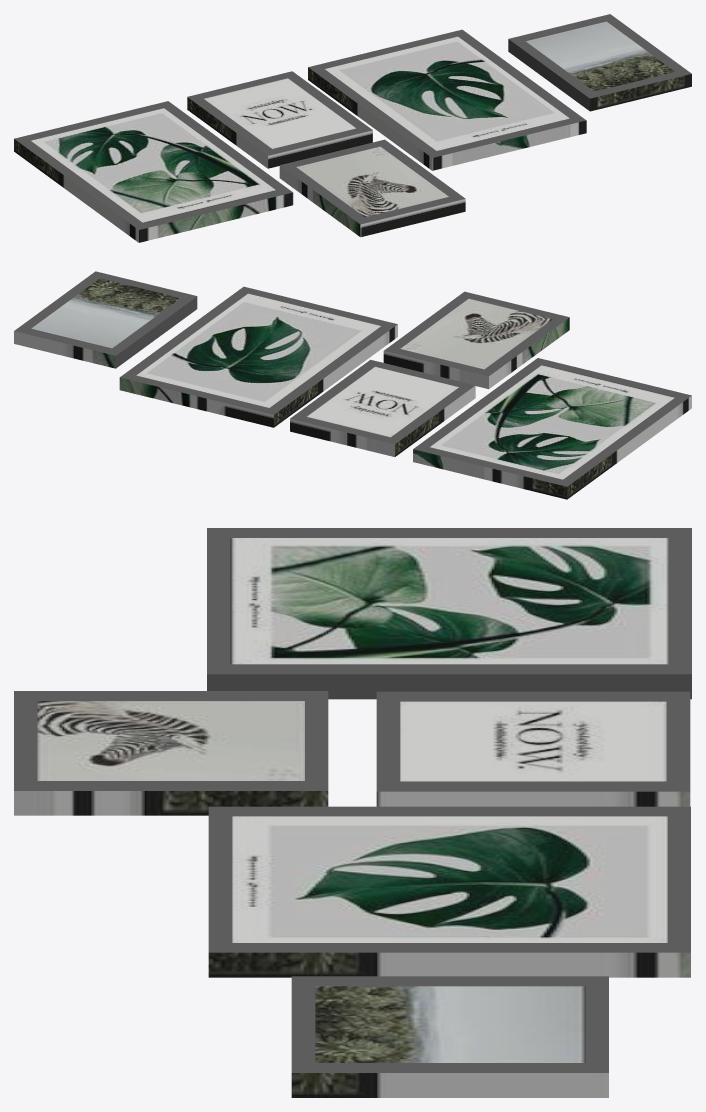
3 renders of one model, top to bottom at view 1: azimuth 30°, elevation 25°; view 2: azimuth 150°, elevation 25°; view 3: azimuth 270°, elevation 25°, orthographic. The views are drawn at different scales.
Visible parts, largest first — view 1: mesh_2_ROOT_Layer0_195_196_193_ss, mesh_0_ROOT_Layer0_30_30_30_ss; view 2: mesh_2_ROOT_Layer0_195_196_193_ss, mesh_0_ROOT_Layer0_30_30_30_ss; view 3: mesh_2_ROOT_Layer0_195_196_193_ss, mesh_0_ROOT_Layer0_30_30_30_ss.
Part boxes in pixels (box(x1,y1,x2,y2)): mesh_2_ROOT_Layer0_195_196_193_ss: box(14, 21, 691, 242); mesh_0_ROOT_Layer0_30_30_30_ss: box(14, 14, 691, 229); mesh_2_ROOT_Layer0_195_196_193_ss: box(14, 278, 691, 499); mesh_0_ROOT_Layer0_30_30_30_ss: box(14, 271, 691, 486); mesh_2_ROOT_Layer0_195_196_193_ss: box(14, 538, 690, 1097); mesh_0_ROOT_Layer0_30_30_30_ss: box(14, 528, 691, 1072).
Size of the model in its own units: 15788 by 337 by 8301.
3 materials, 1 textured.
